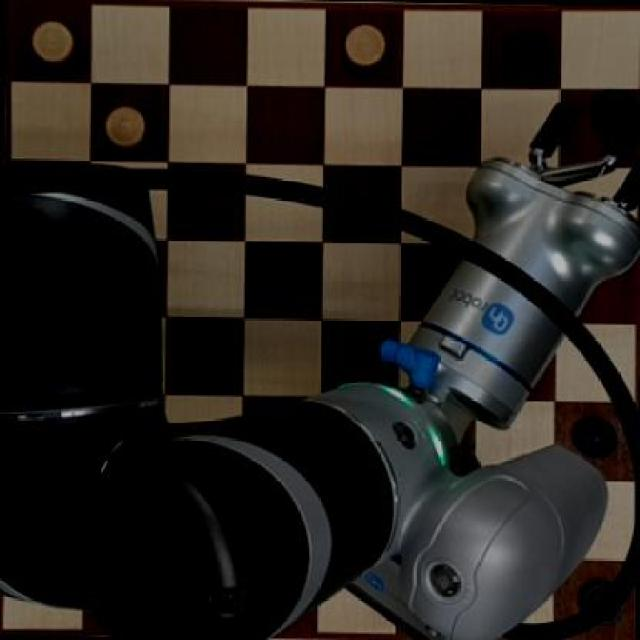black: (496, 21, 552, 72), (567, 414, 620, 462), (584, 97, 630, 144)
white: (338, 19, 397, 77), (27, 16, 81, 64), (106, 102, 146, 150)
